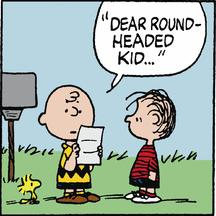charlie: (38, 85, 104, 205)
